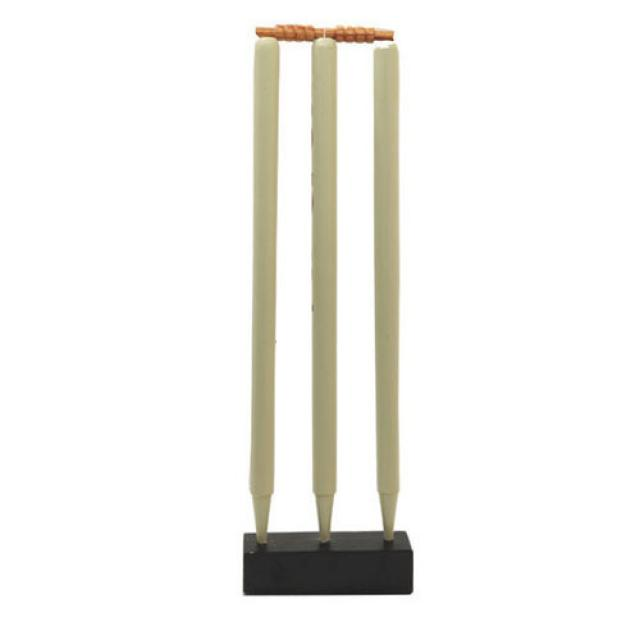stump: (253, 25, 397, 542)
